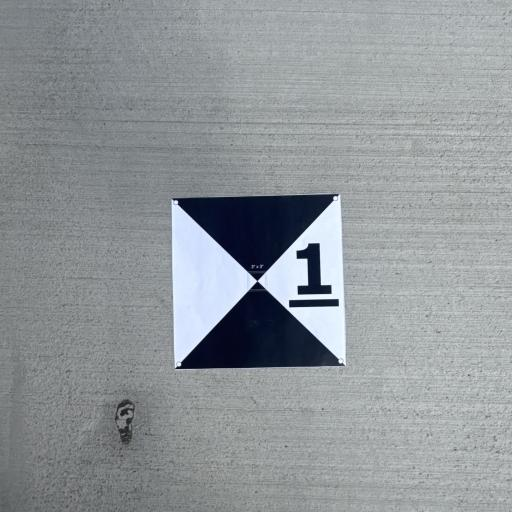target1: (168, 193, 350, 370)
